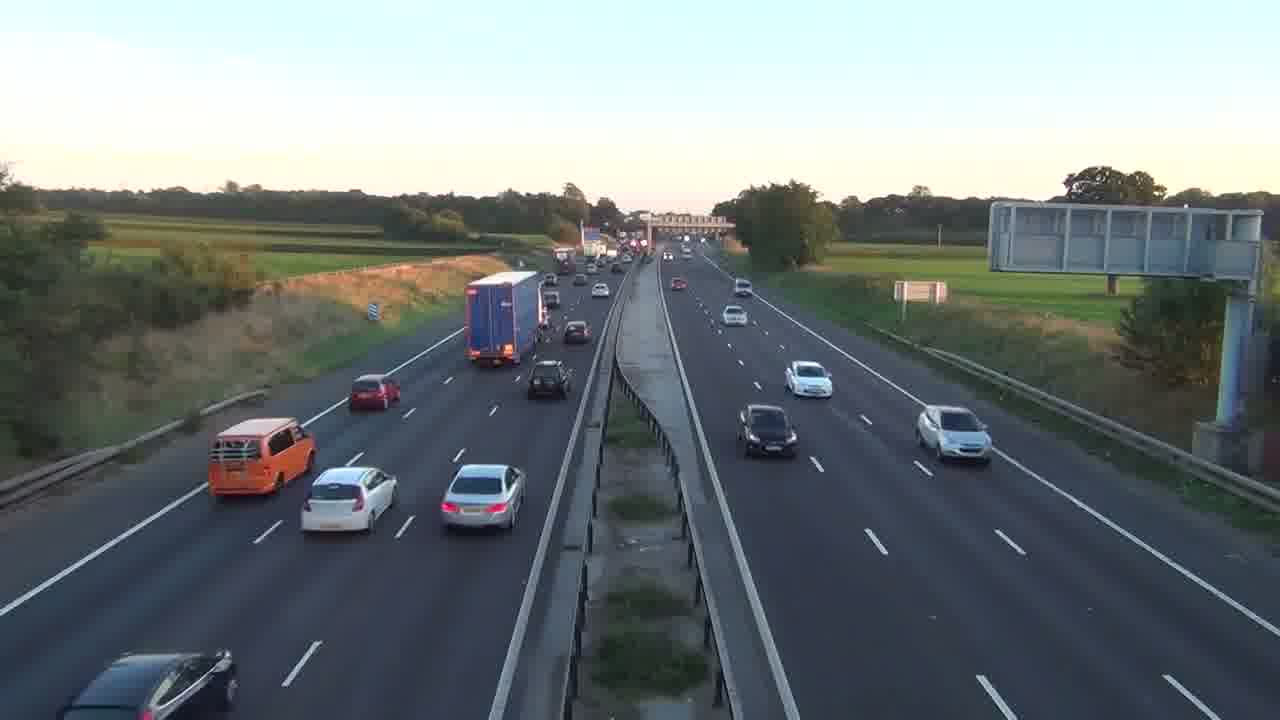bus: (208, 415, 317, 499), (464, 269, 544, 368)
car: (59, 648, 240, 718), (300, 464, 399, 533), (437, 463, 527, 533), (914, 404, 993, 464), (737, 403, 799, 458), (350, 372, 401, 412), (784, 360, 834, 398), (527, 359, 572, 400), (563, 320, 593, 346), (722, 305, 749, 326), (591, 281, 610, 298), (671, 277, 688, 291)
